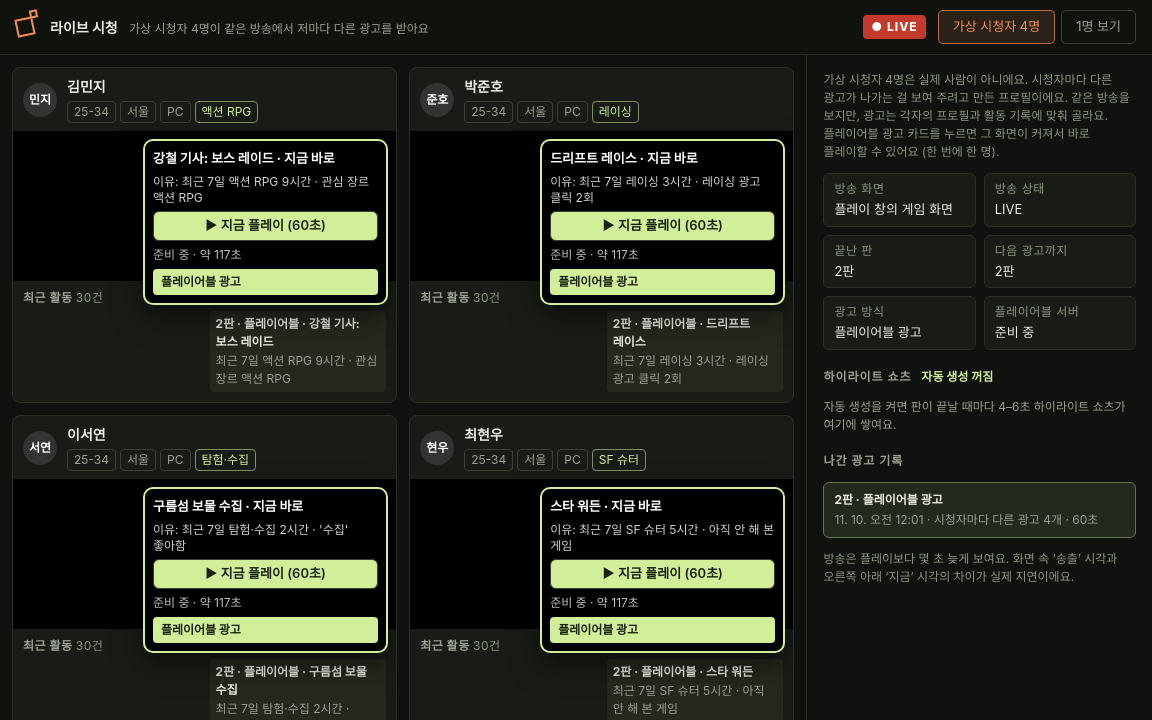
Test: a click expands that tile to play; one game at a time per page › while the launcher is still starting the card says 준비 중 · 약 n초, and so does a click (no long spinner)
Click the button "▶ 지금 플레이 (60초)" below "이유: 최근 7일 레이싱 3시간 · 레이싱 광고 클릭 2회". click: click(663, 226)
box: [550,211,775,241]
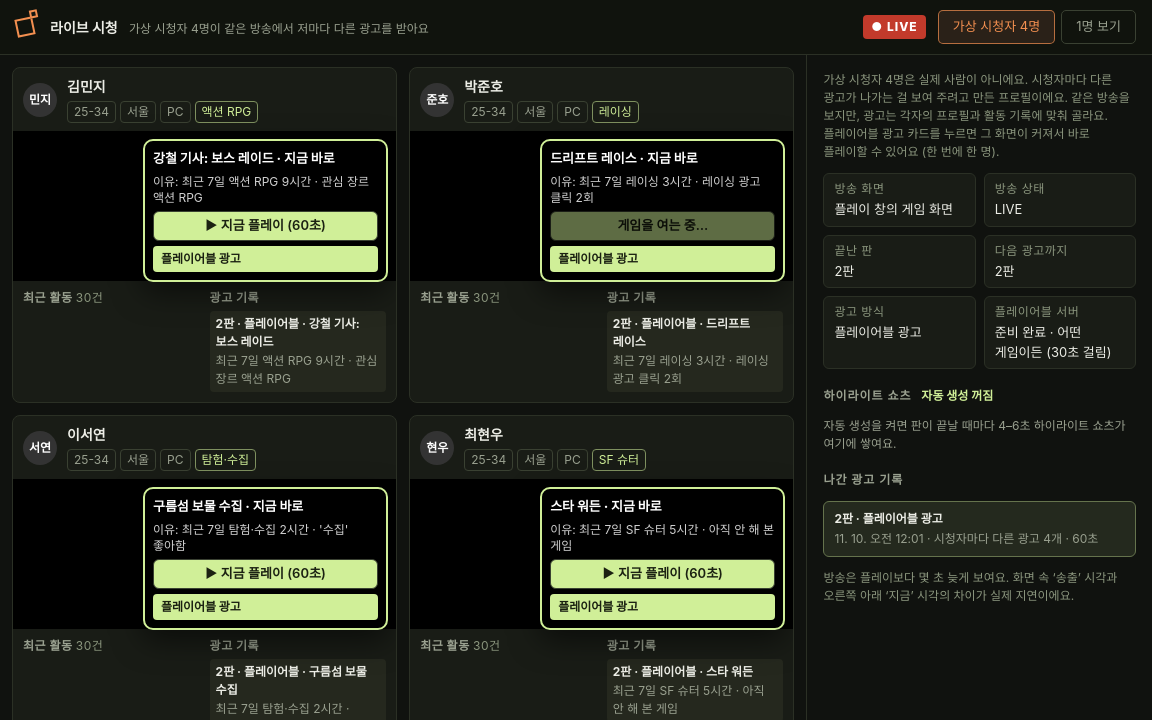
Now the button "게임을 여는 중…" is disabled, box [550,211,775,241]
